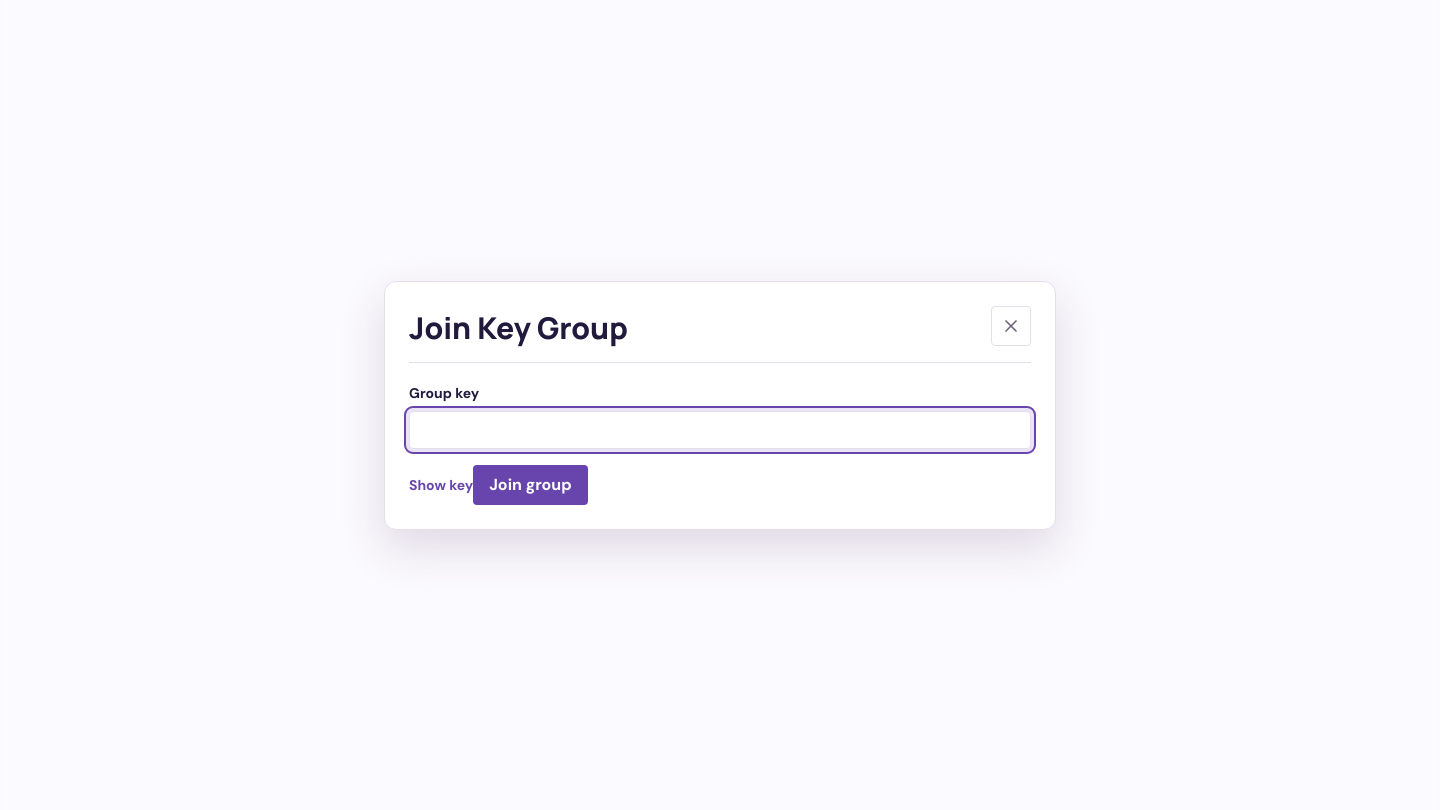
Test: Key Group entry › shows the server error when joining is unavailable
Step 1. Type "mdez-group-AAAAAAAAAAAAAAAAAAAAAA" into the password field labelled "Group key" → (720, 430), box 409,410 -> 1031,448
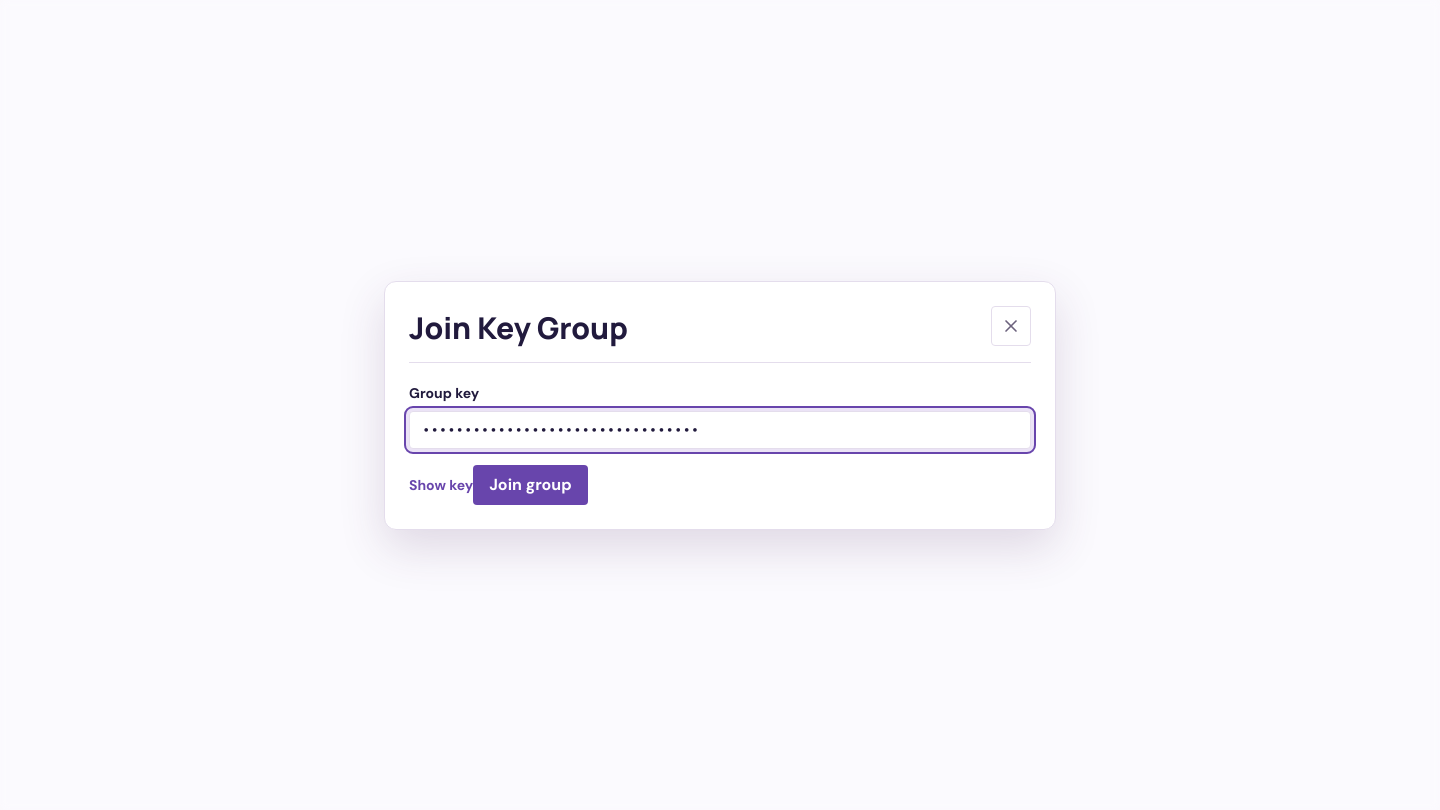
Step 2. Click the button "Join group" → click(530, 484), box 473,464 -> 588,504
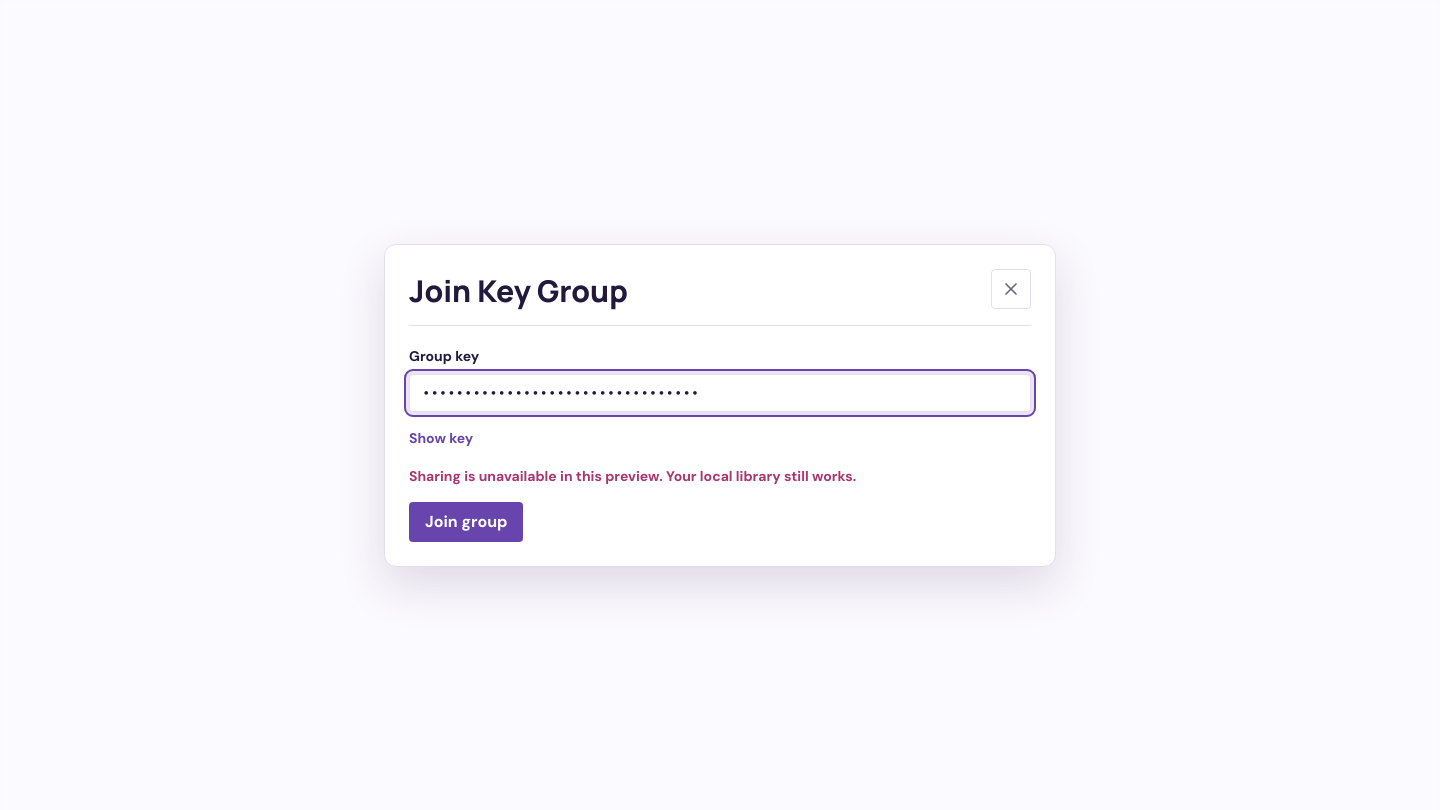
Now the message reads "Sharing is unavailable in this preview. Your local library still works.", box 409,466 -> 856,484
